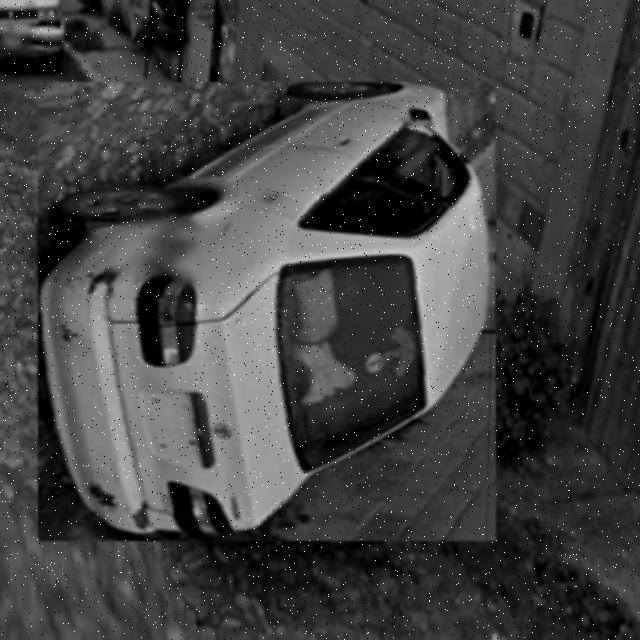car: (39, 83, 498, 542)
